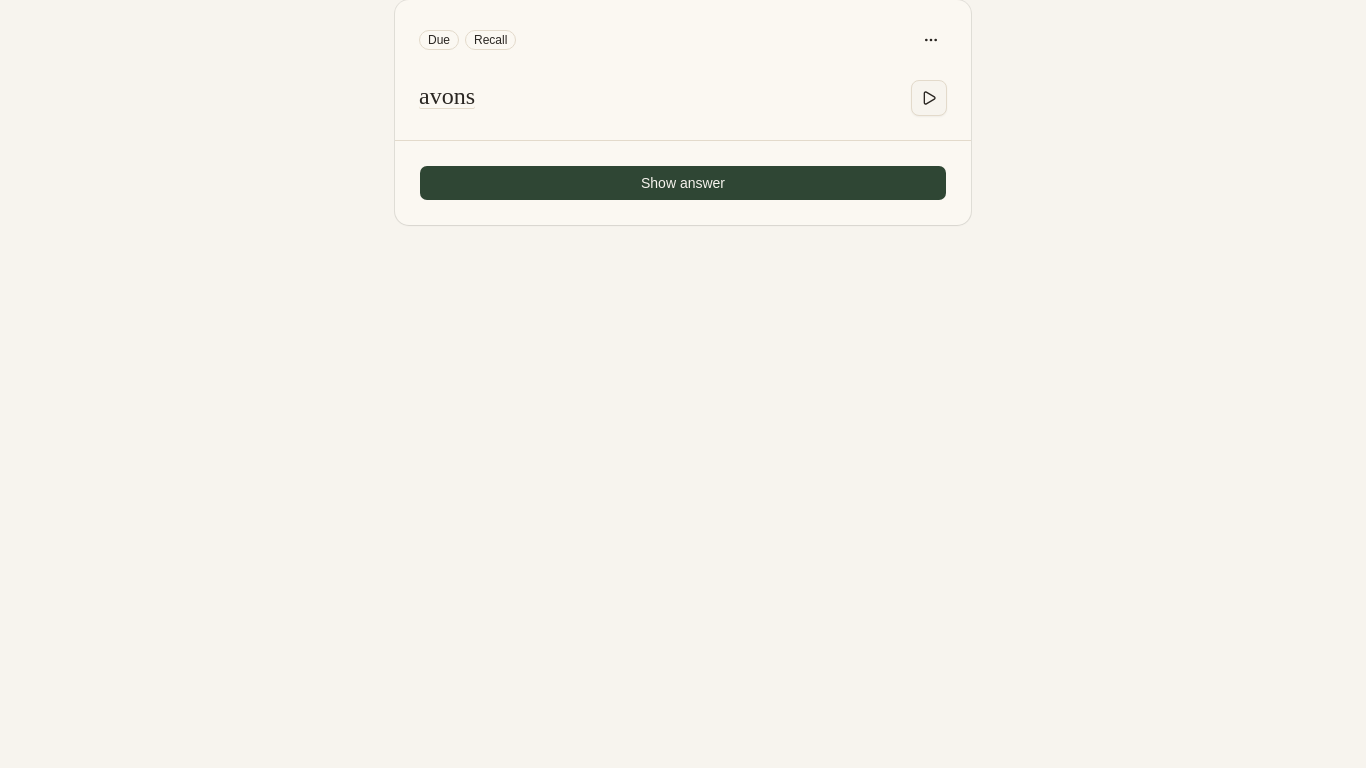
Test: Task C — Anki-style review card › a recognize front word speaks and opens its meaning without revealing or rating the card
Click the text with class "fr-word". click: [447, 96]
box: [419,83,475,109]
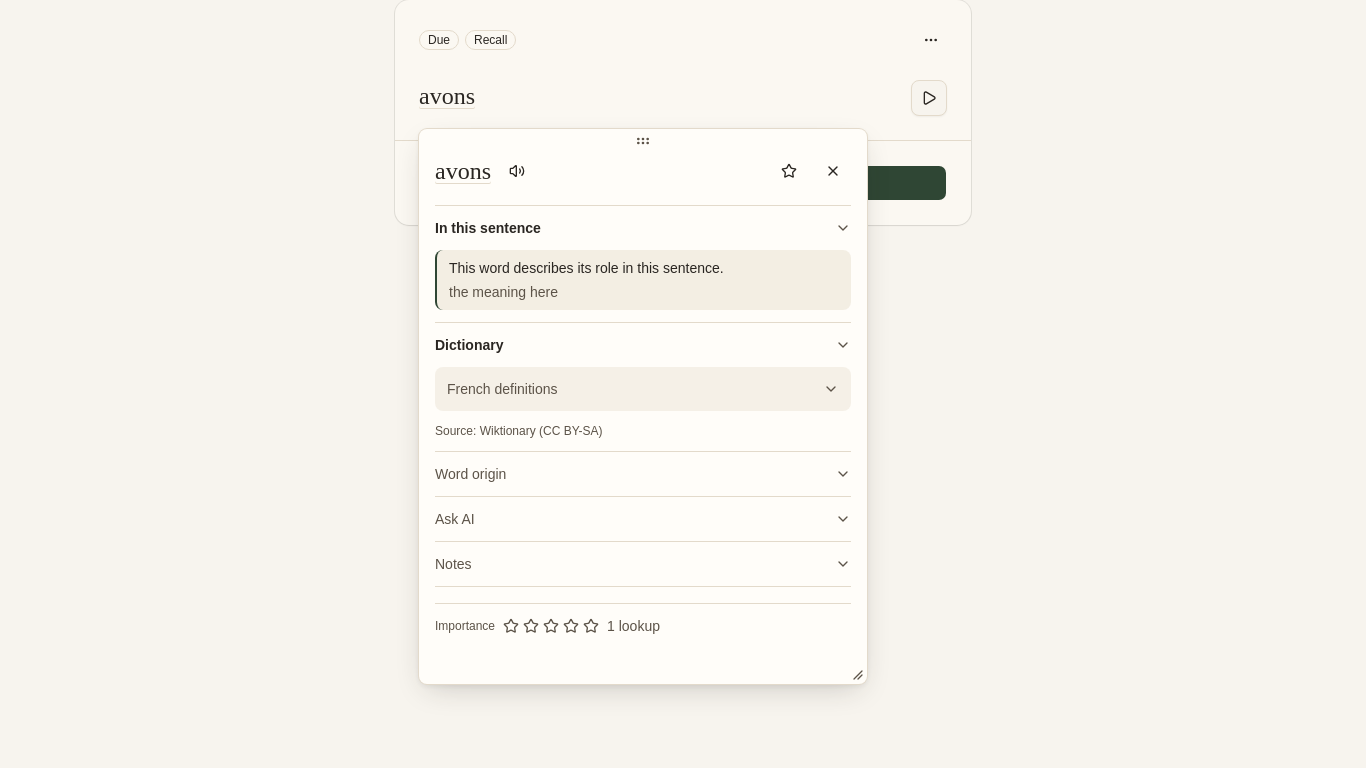
Expected: the element with class "word-card" is shown, [435,153,851,636]
Expected: the element with class "wp-headword" reads "avons", [435,158,491,184]
